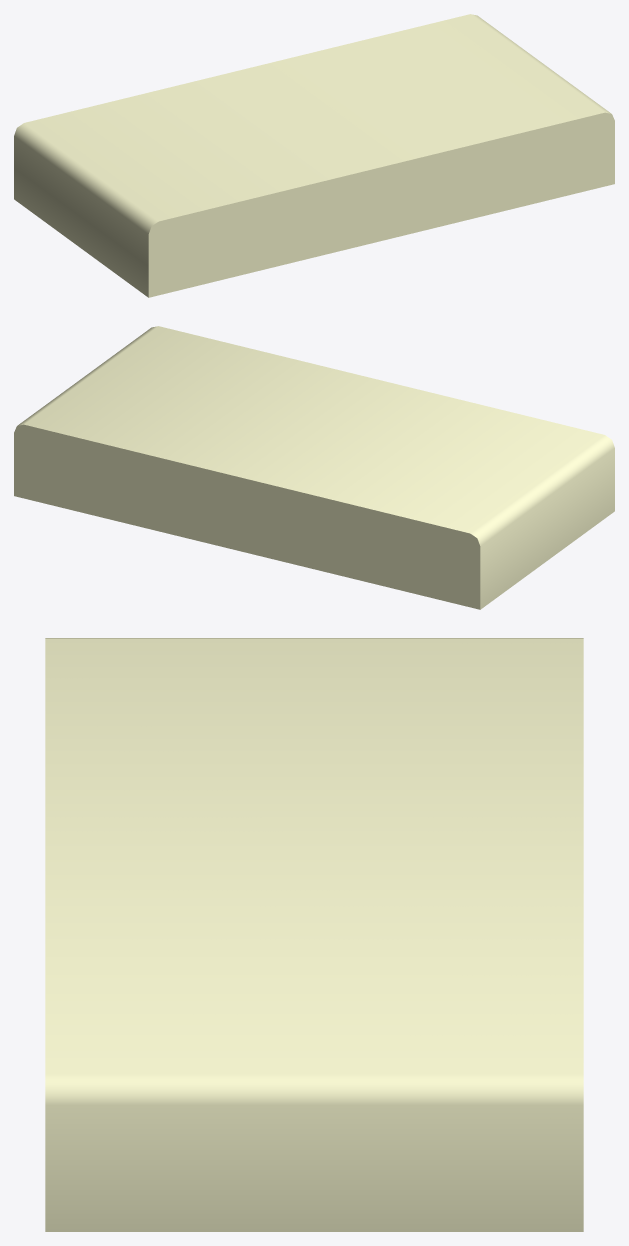
Rendered from Platform.fbx.
3 renders of one model, top to bottom at view 1: azimuth 30°, elevation 25°; view 2: azimuth 150°, elevation 25°; view 3: azimuth 270°, elevation 25°, orthographic. The views are drawn at different scales.
Visible parts, largest first — view 1: Platform; view 2: Platform; view 3: Platform.
Boxes of the visible parts, x1=… form: Platform: x1=14, y1=14, x2=614, y2=297; Platform: x1=14, y1=326, x2=614, y2=609; Platform: x1=45, y1=638, x2=583, y2=1231.
Size of the model in its own units: 4 by 0.6056 by 2.
